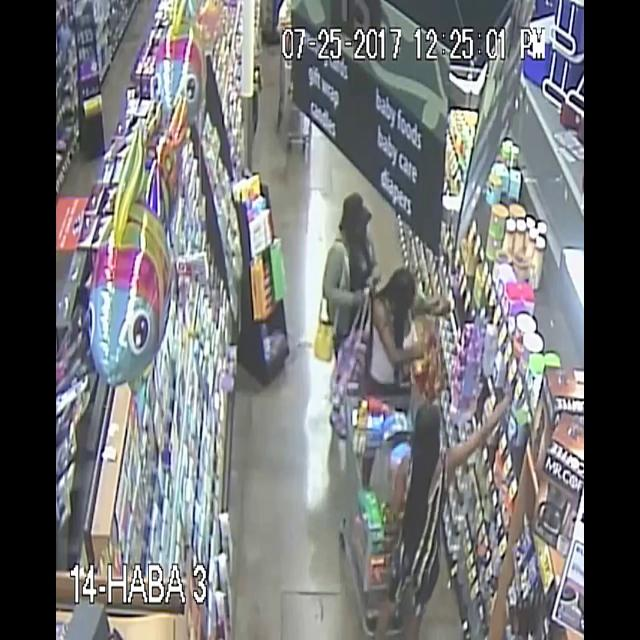Product: (405, 327, 436, 376), (496, 390, 518, 434)
normal: (332, 173, 384, 270)
shoplifting: (370, 386, 525, 640), (355, 246, 477, 406)
